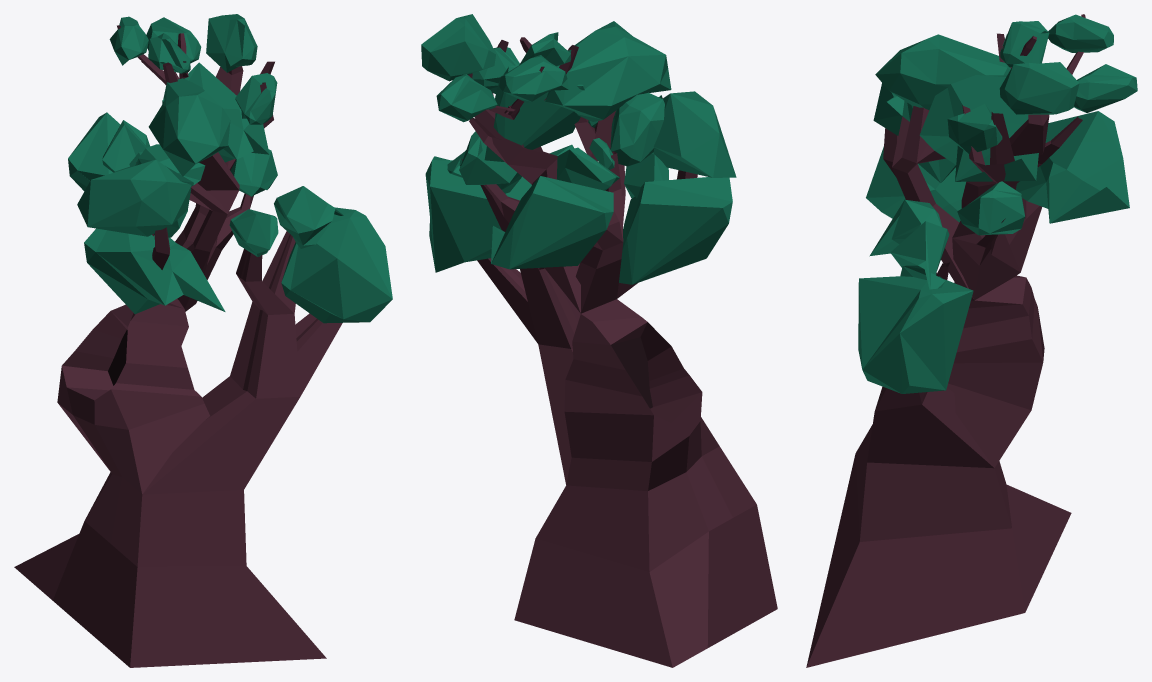
Rendered from wisetree2.fbx.
The picture shows the model from 3 angles, left to right: view 1: azimuth 30°, elevation 25°; view 2: azimuth 150°, elevation 25°; view 3: azimuth 270°, elevation 25°; orthographic projection. The views are drawn at different scales.
Visible parts, largest first — view 1: Icosphere, Icosphere.001; view 2: Icosphere, Icosphere.001; view 3: Icosphere, Icosphere.001.
Boxes of the visible parts, <box> form: Icosphere: <box>14,25,342,667</box>; Icosphere.001: <box>68,14,392,323</box>; Icosphere: <box>461,37,777,667</box>; Icosphere.001: <box>421,14,736,284</box>; Icosphere: <box>806,14,1085,667</box>; Icosphere.001: <box>858,14,1137,393</box>.
Size of the model in its own units: 22774 by 41854 by 20504.
